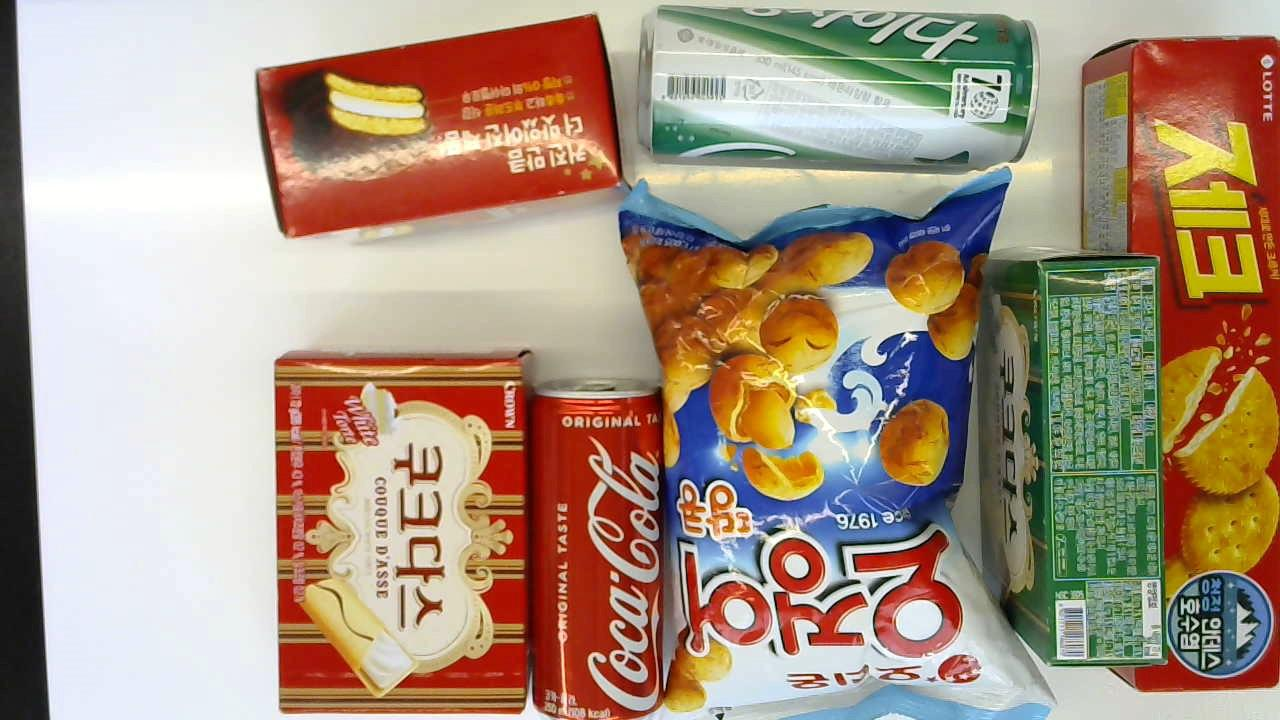chocopie: (258, 11, 633, 231)
cidar: (642, 0, 1040, 166)
coke: (529, 377, 662, 719)
couque_coffee: (984, 242, 1161, 665)
couque_white: (270, 347, 537, 713)
squid_peanut: (639, 172, 1015, 720)
zec: (1079, 35, 1279, 697)
